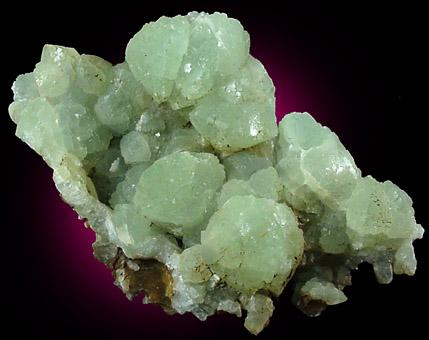prehnite: (10, 13, 419, 296)
